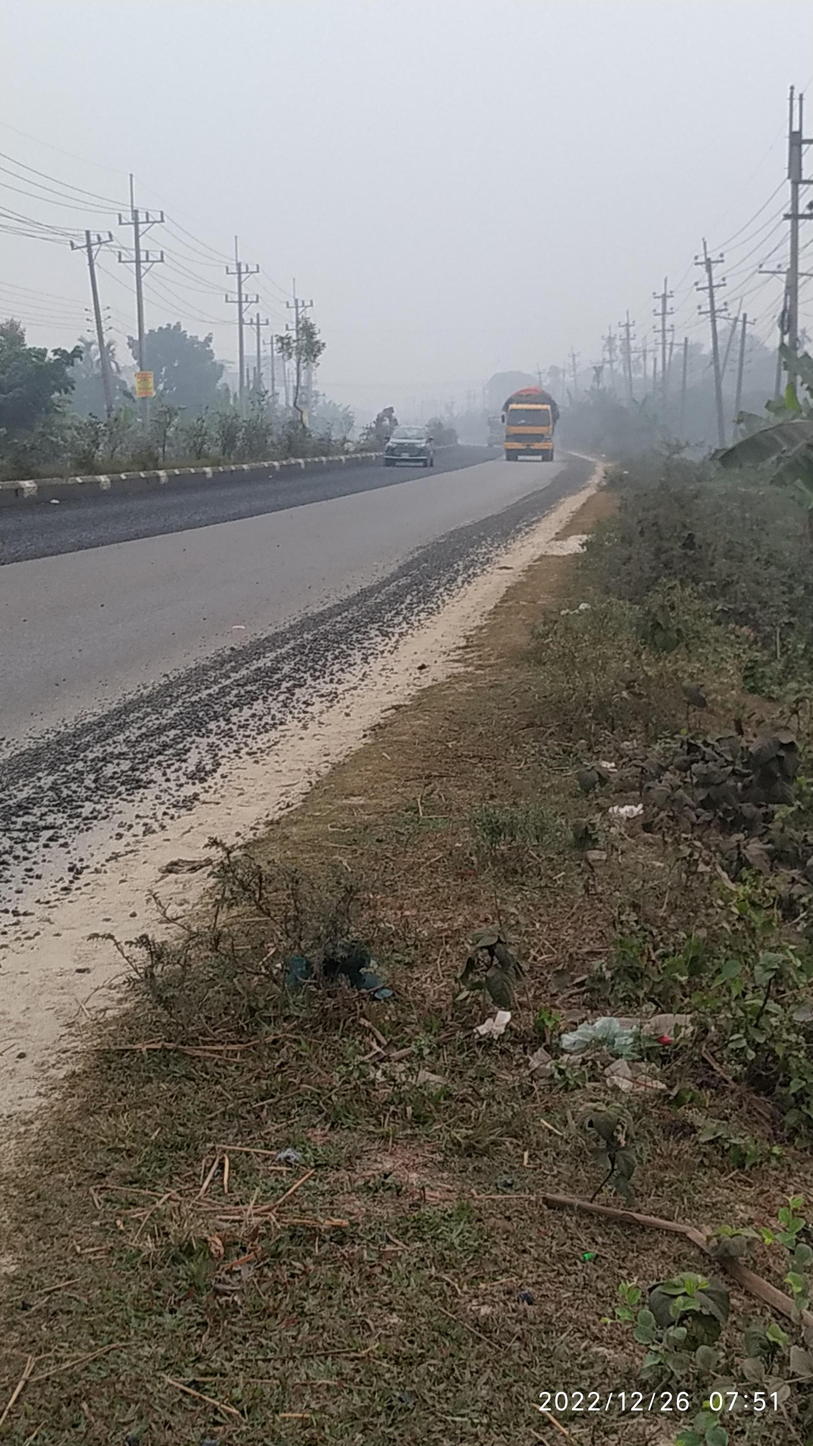Car: (375, 411, 447, 479)
Truck: (486, 373, 575, 492)
